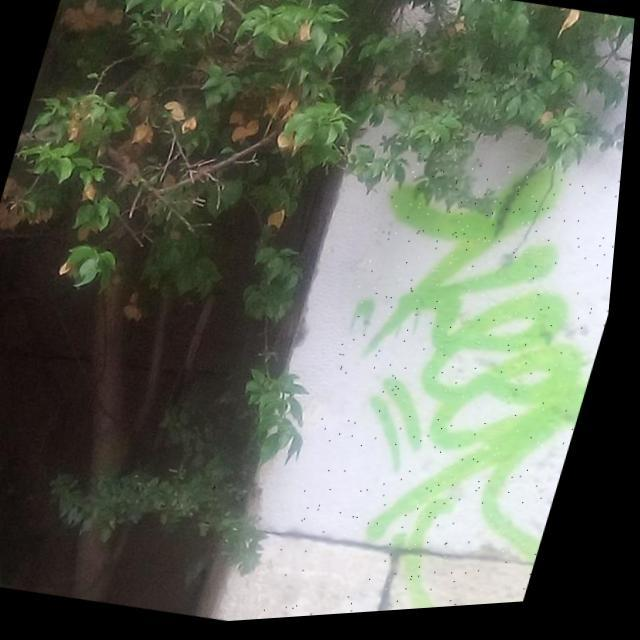-: (272, 141, 628, 624)
